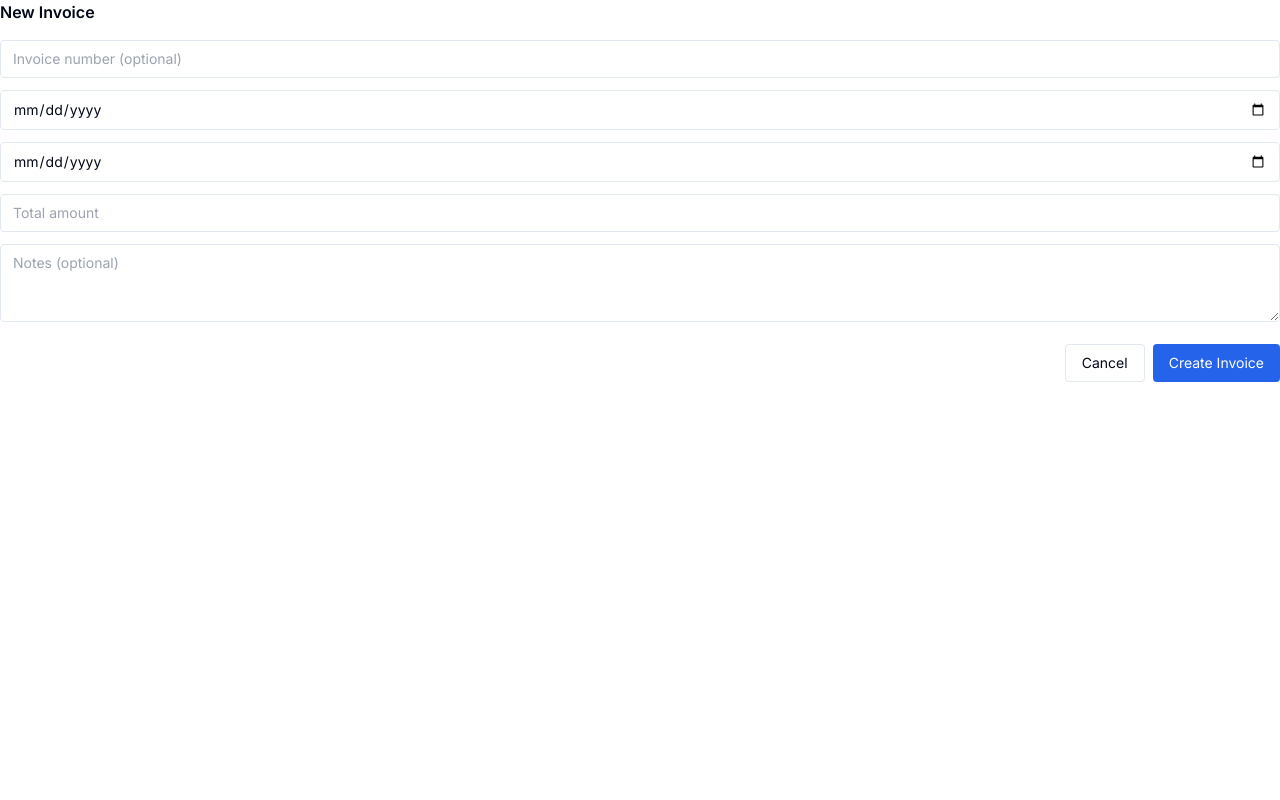
Test: InvoiceDialog › error from mutateAsync shows error message
Click the button with test id "invoice-dialog-submit". click: [1216, 363]
box: x1=1153 y1=344 x2=1279 y2=382
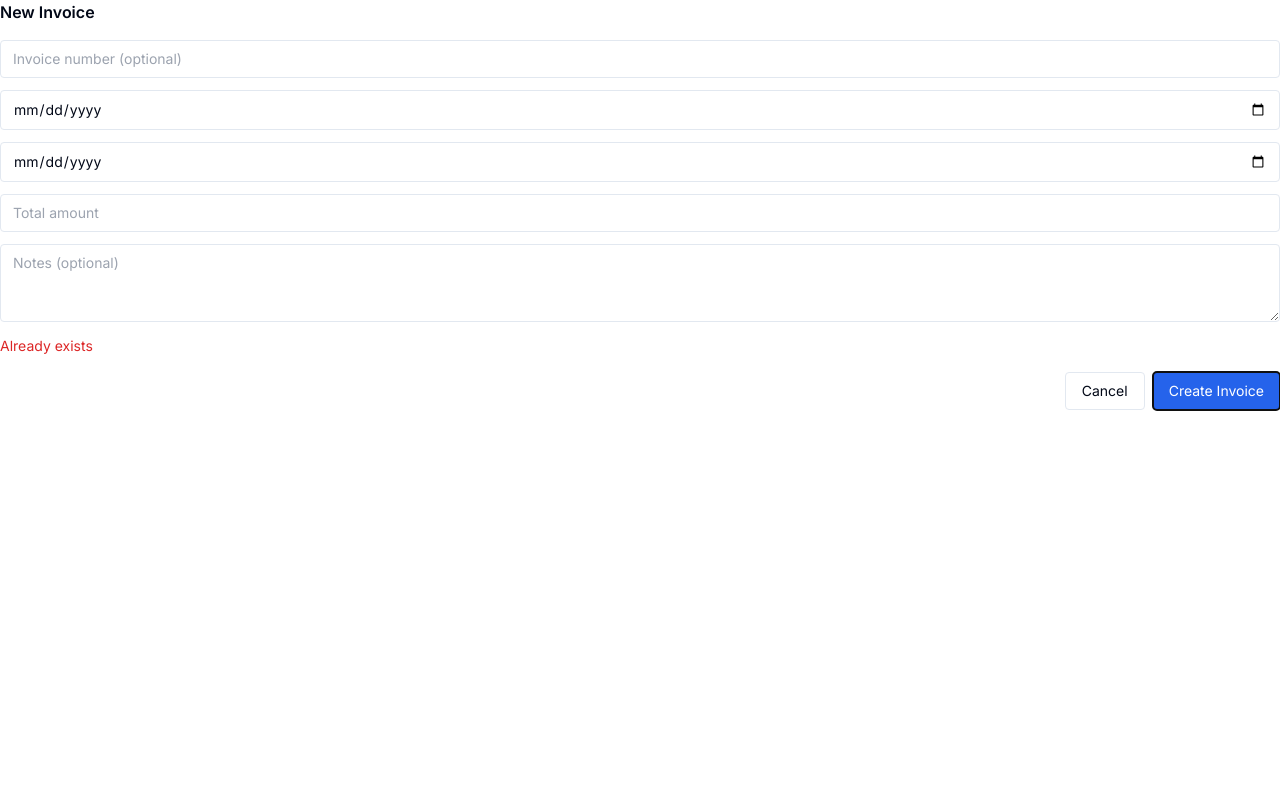
expect the text "Already exists" is shown: met, box x1=0 y1=337 x2=93 y2=354
